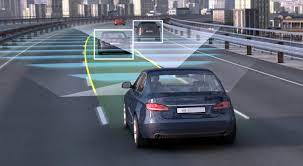car: (117, 65, 242, 147)
